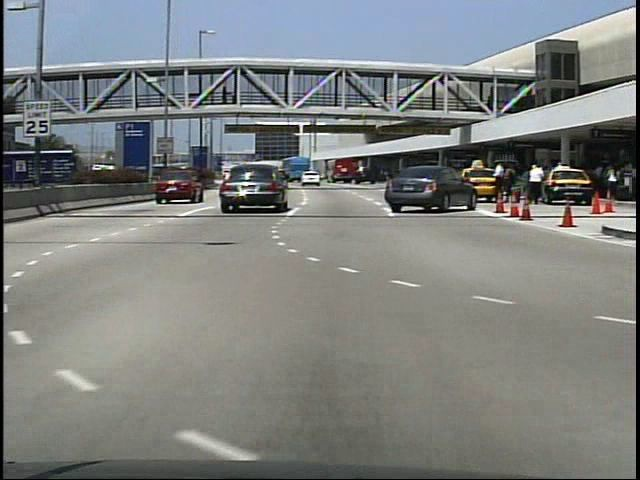person: (524, 158, 548, 204), (490, 161, 509, 204), (599, 161, 619, 200), (529, 160, 544, 203), (220, 86, 230, 108)
